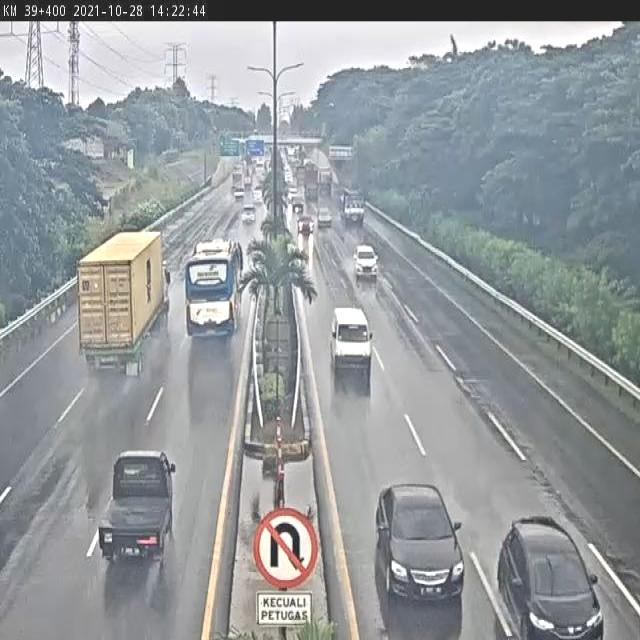Bus: (182, 236, 244, 344)
Car: (496, 513, 603, 640), (373, 479, 466, 610), (97, 451, 178, 571), (355, 244, 382, 288), (316, 205, 333, 230), (296, 214, 312, 237), (241, 205, 258, 225), (292, 196, 306, 212), (234, 186, 243, 201)
Truck: (77, 230, 171, 373), (340, 190, 367, 227)
Van: (329, 309, 376, 392)
